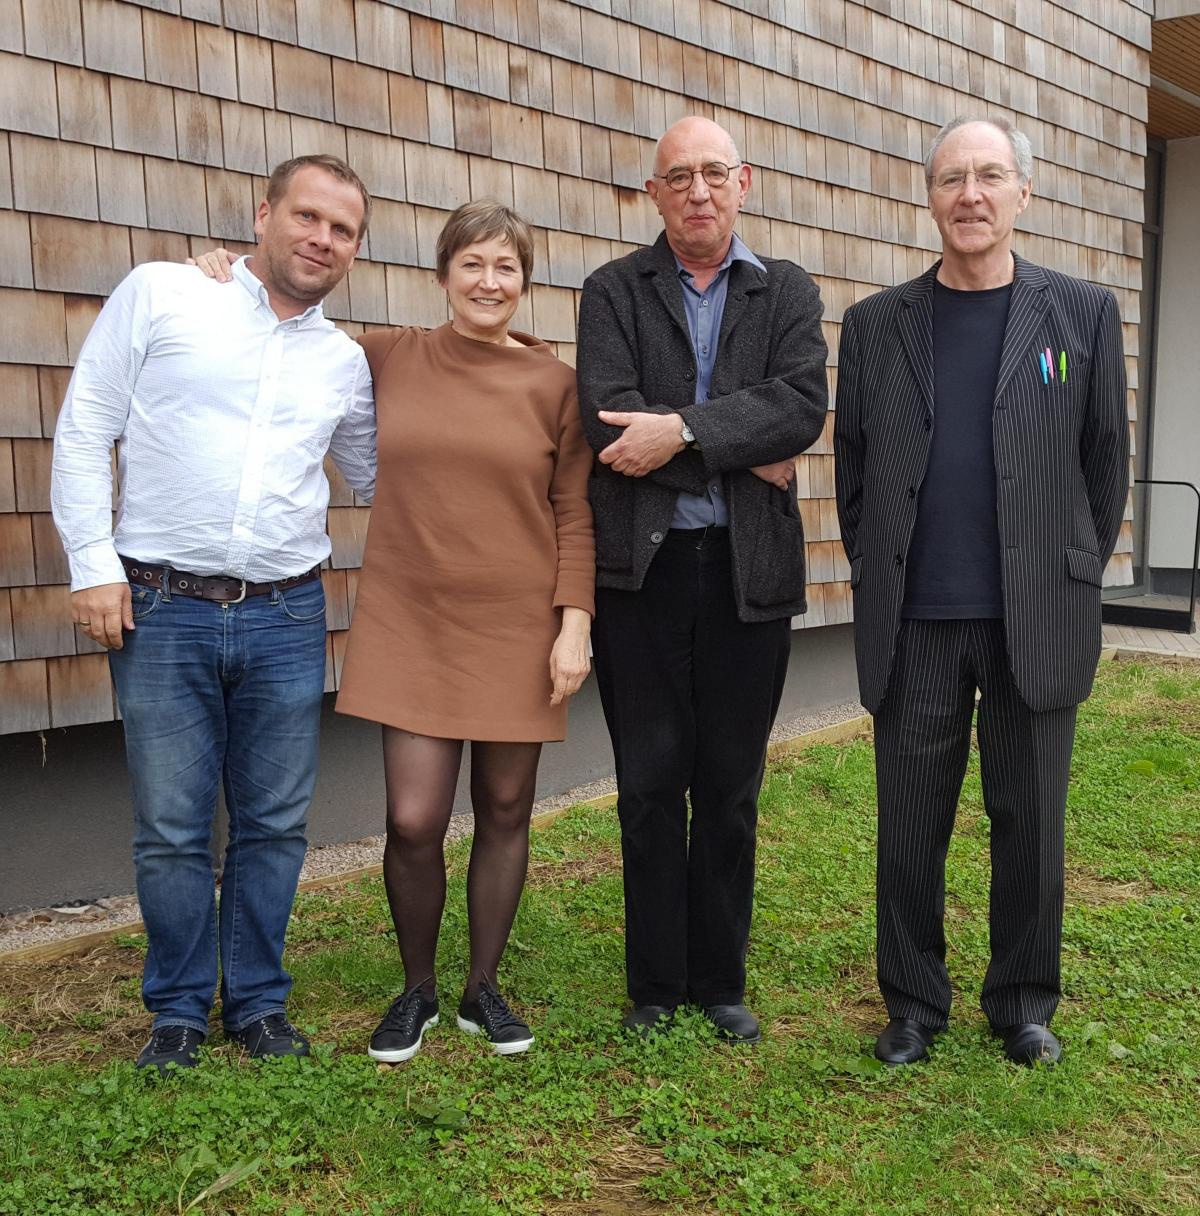head: (230, 156, 371, 316), (927, 112, 1037, 265), (430, 198, 541, 340), (649, 117, 753, 253)
human: (52, 157, 371, 1074), (838, 113, 1132, 1084), (570, 112, 818, 1040), (337, 198, 594, 1070)
